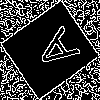A: (25, 24, 82, 79)
